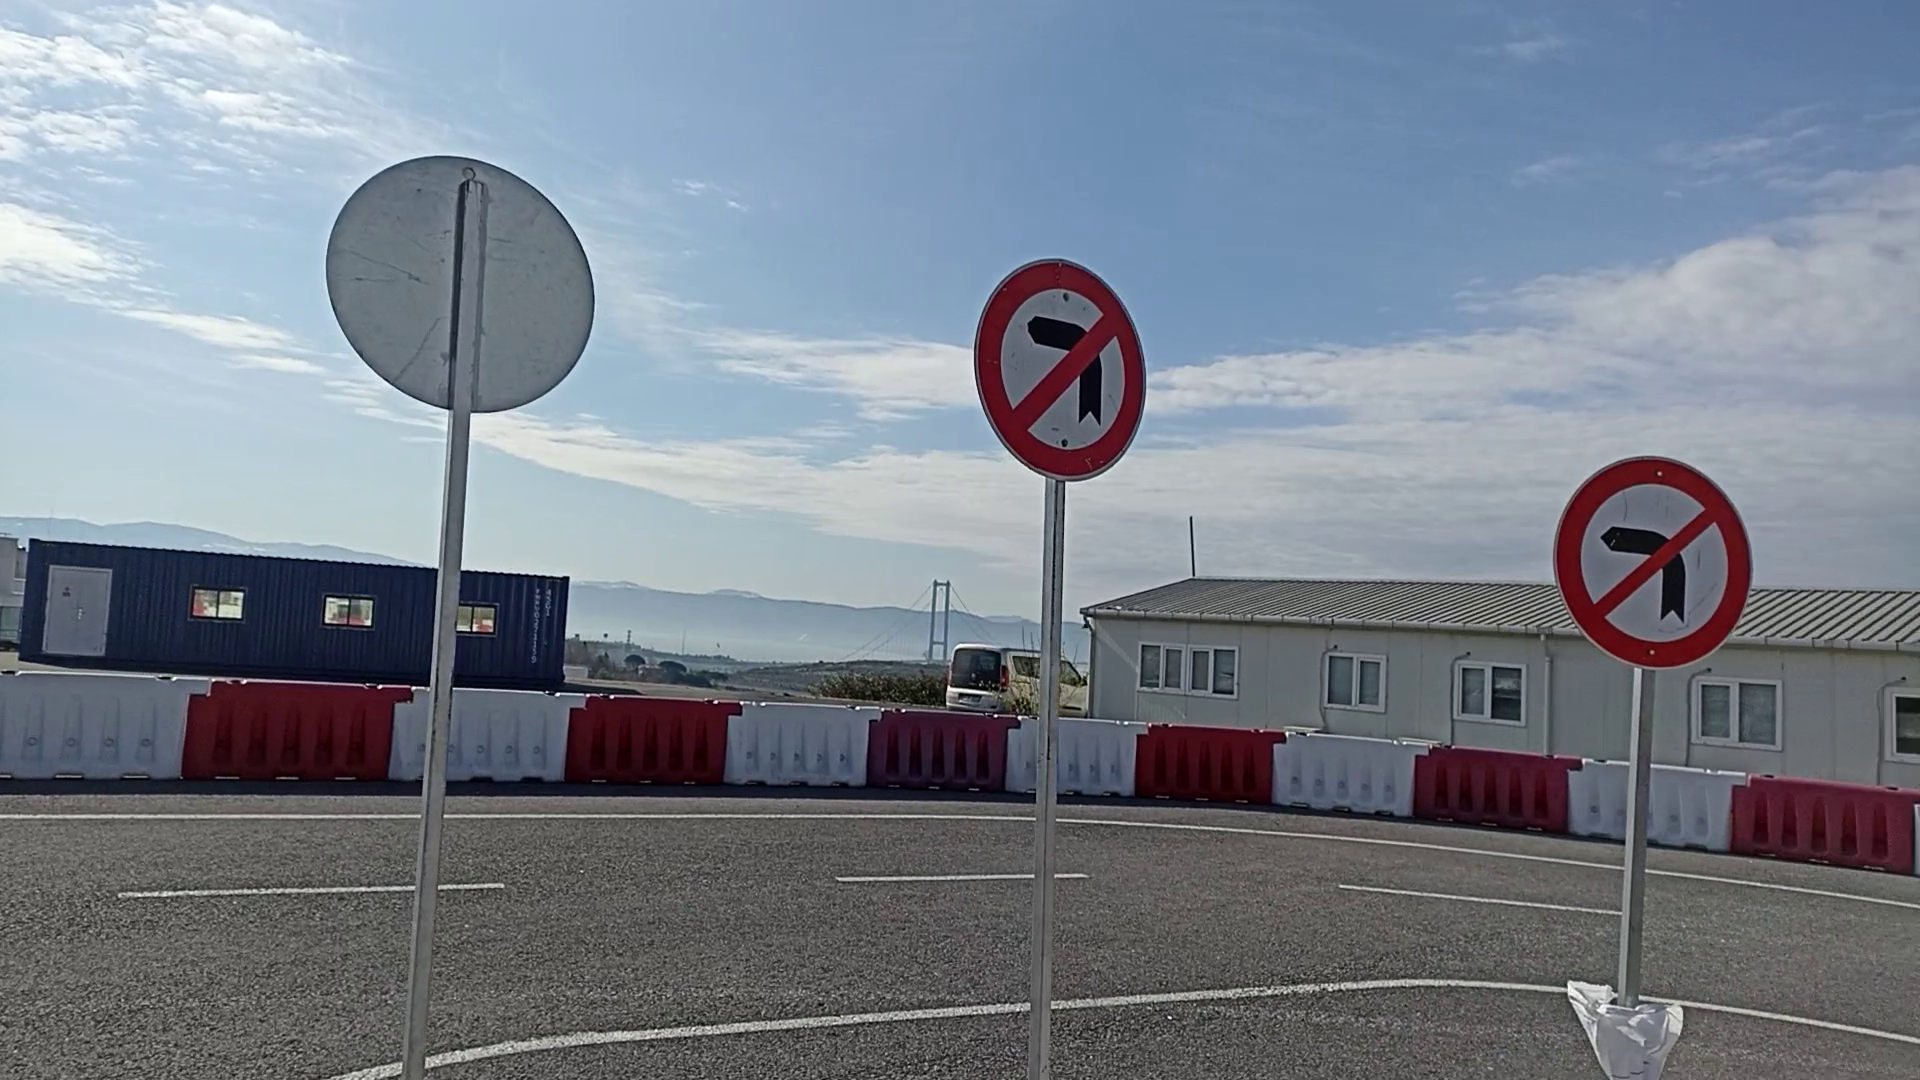noleft: (1549, 454, 1756, 673), (972, 257, 1149, 484)
